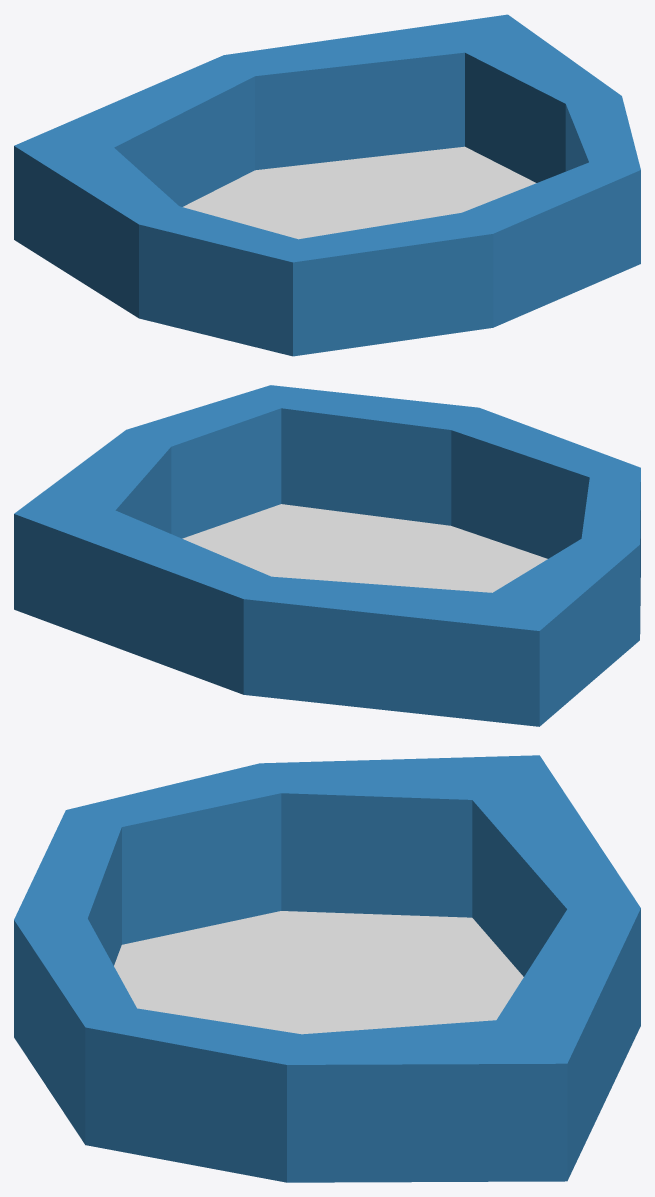
File: stations_station_bladder.fbx
The picture shows the model from 3 angles, top to bottom: view 1: azimuth 30°, elevation 25°; view 2: azimuth 150°, elevation 25°; view 3: azimuth 270°, elevation 25°; orthographic projection. The views are drawn at different scales.
Visible parts, largest first — view 1: station_bladder; view 2: station_bladder; view 3: station_bladder.
Boxes of the visible parts, box(x1,y1,x2,y2) form: station_bladder: box(14, 14, 640, 356); station_bladder: box(14, 385, 640, 726); station_bladder: box(14, 755, 640, 1182).
Size of the model in its own units: 0.5619 by 0.0996 by 0.4808.
